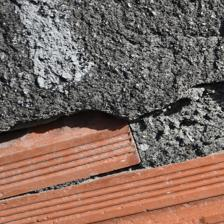Crack: (3, 40, 215, 112)
